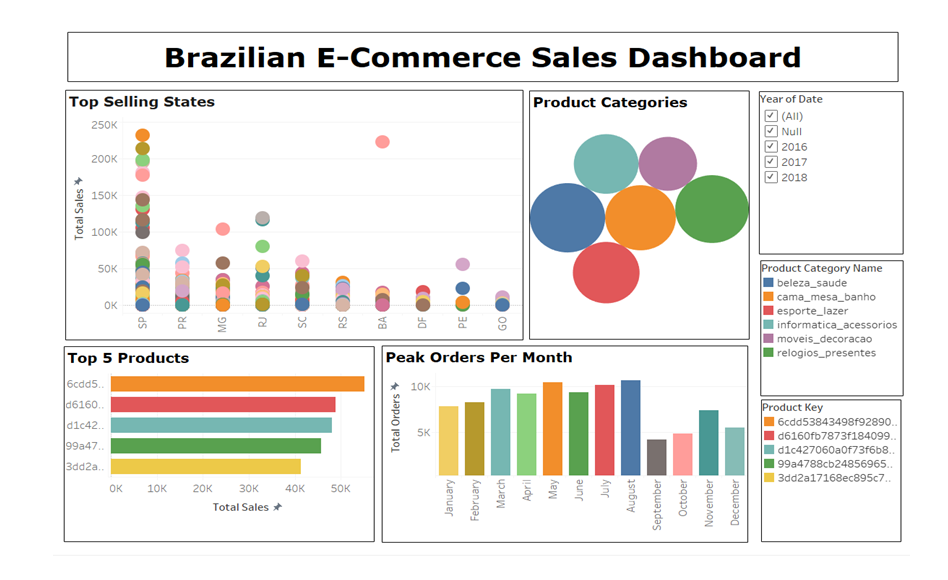

This screenshot's page, from the dashboard's own definition file:
{"tool":"tableau","page":{"name":"sales_dashboard","canvas":[1200,800],"ordinal":0},"visuals":[{"type":"text","box":[32,15,1150,75]},{"type":"worksheet","title":"Q1","mark":"Circle","rows":["Calculation_726205456270827520"],"cols":["seller_state"],"box":[29,102,634,376]},{"type":"worksheet","title":"Q2","mark":"Circle","box":[671,103,305,374]},{"type":"filter","title":"Q1","param":"[federated.1df0nta07g10cw13f52pj15i7rkx].[yr:date:ok]","box":[989,104,200,245]},{"type":"legend","title":"Q2","param":"[federated.1df0nta07g10cw13f52pj15i7rkx].[none:product_category_name:nk]","box":[991,358,198,204]},{"type":"worksheet","title":"Q4","mark":"Automatic","rows":["Calculation_726205456270974977"],"cols":["month_name"],"box":[467,486,507,296]},{"type":"worksheet","title":"Q3","mark":"Automatic","rows":["product_key (product_dimension.csv)"],"cols":["Calculation_726205456270827520"],"box":[27,487,430,294]},{"type":"legend","title":"Q3","param":"[federated.1df0nta07g10cw13f52pj15i7rkx].[none:product_key (product_dimension.cs","box":[992,567,194,214]}]}

Visuals, with their boxes in screenshot pixels (x1, y1, x2, y2):
text: (72, 0, 895, 52)
"Q1" worksheet (Circle marks): (70, 61, 524, 330)
"Q2" worksheet (Circle marks): (529, 61, 747, 329)
"Q1" filter: (757, 62, 900, 237)
"Q2" legend: (758, 244, 900, 390)
"Q4" worksheet: (383, 335, 746, 547)
"Q3" worksheet: (69, 336, 376, 546)
"Q3" legend: (759, 393, 898, 546)
